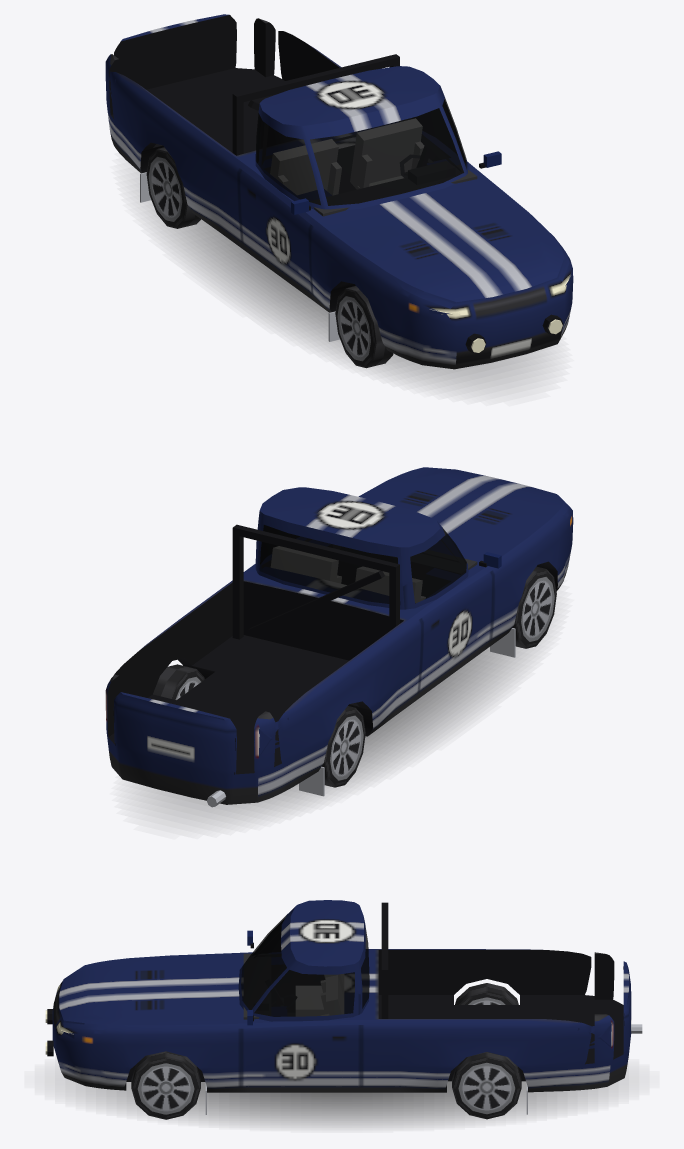
File: ticao.glb
The picture shows the model from 3 angles, top to bottom: view 1: azimuth 30°, elevation 25°; view 2: azimuth 150°, elevation 25°; view 3: azimuth 270°, elevation 25°; orthographic projection. The views are drawn at different scales.
Visible parts, largest first — view 1: Carroceria, Capo_malha, Sombra, Interior, Porta_D_malha, Tampa_malha, Roda_DD, Roda_TD, Porta_E_malha; view 2: Carroceria, Sombra, Capo_malha, Porta_D_malha, Tampa_malha, Interior, Roda_DD, Roda_TD, Roda_TE; view 3: Carroceria, Porta_E_malha, Sombra, Capo_malha, Interior, Roda_DE, Roda_TE, Roda_TD, Tampa_malha, Porta_D_malha.
Part boxes in pixels (x1,y1,x2,y2): Carroceria: [105, 18, 573, 369]; Capo_malha: [329, 186, 569, 308]; Sombra: [139, 183, 544, 389]; Interior: [262, 118, 477, 216]; Porta_D_malha: [239, 104, 324, 292]; Tampa_malha: [114, 14, 236, 89]; Roda_DD: [335, 286, 393, 368]; Roda_TD: [146, 147, 200, 228]; Porta_E_malha: [412, 86, 501, 174]; Carroceria: [105, 470, 573, 807]; Sombra: [139, 645, 534, 822]; Capo_malha: [362, 467, 569, 557]; Porta_D_malha: [401, 521, 501, 690]; Tampa_malha: [113, 692, 236, 774]; Interior: [262, 539, 477, 602]; Roda_DD: [512, 566, 556, 648]; Roda_TD: [321, 706, 365, 787]; Roda_TE: [153, 664, 204, 699]; Carroceria: [45, 900, 642, 1114]; Porta_E_malha: [241, 960, 360, 1086]; Sombra: [65, 1079, 618, 1126]; Capo_malha: [63, 955, 227, 1029]; Interior: [138, 942, 343, 1062]; Roda_DE: [131, 1051, 200, 1119]; Roda_TE: [452, 1052, 521, 1119]; Roda_TD: [455, 983, 518, 1004]; Tampa_malha: [623, 961, 631, 1053]; Porta_D_malha: [247, 920, 283, 954].
Bounding box in the file's own units: 2.36 × 1.51 × 5.93.
14 materials, 5 textured.
